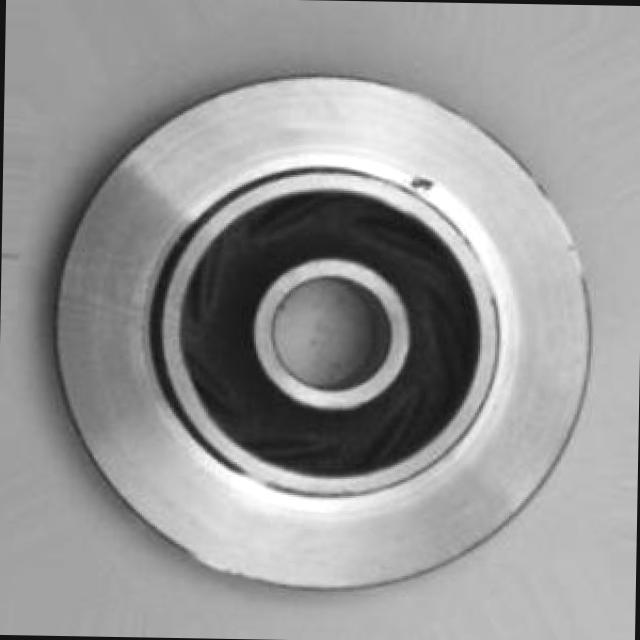Defect: (405, 168, 461, 208)
